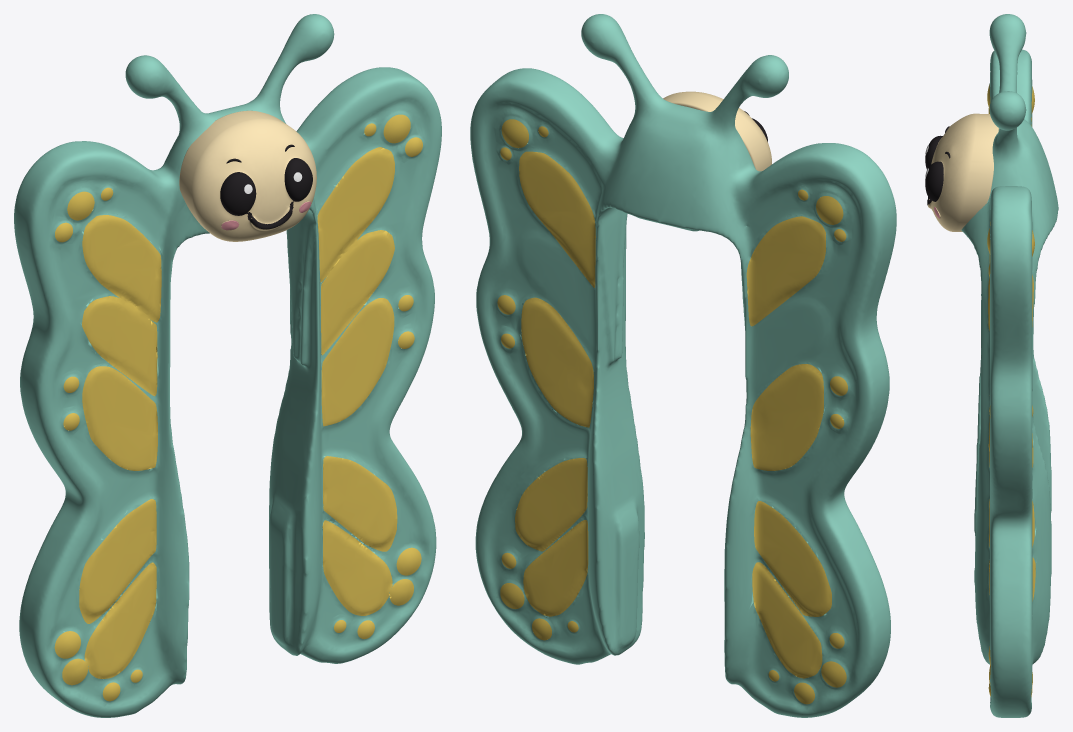
File: borboletoscopio.glb
The picture shows the model from 3 angles, left to right: view 1: azimuth 30°, elevation 25°; view 2: azimuth 150°, elevation 25°; view 3: azimuth 270°, elevation 25°; orthographic projection. The views are drawn at different scales.
Visible parts, largest first — view 1: borboletoscopio, cabeca; view 2: borboletoscopio, cabeca; view 3: borboletoscopio, cabeca.
Boxes of the visible parts, <box> form: borboletoscopio: <box>14,14,441,717</box>; cabeca: <box>179,110,316,241</box>; borboletoscopio: <box>470,14,896,717</box>; cabeca: <box>663,91,771,171</box>; borboletoscopio: <box>961,14,1058,717</box>; cabeca: <box>925,113,998,231</box>.
Bounding box in the file's own units: 1.15 × 1.72 × 0.3441.
